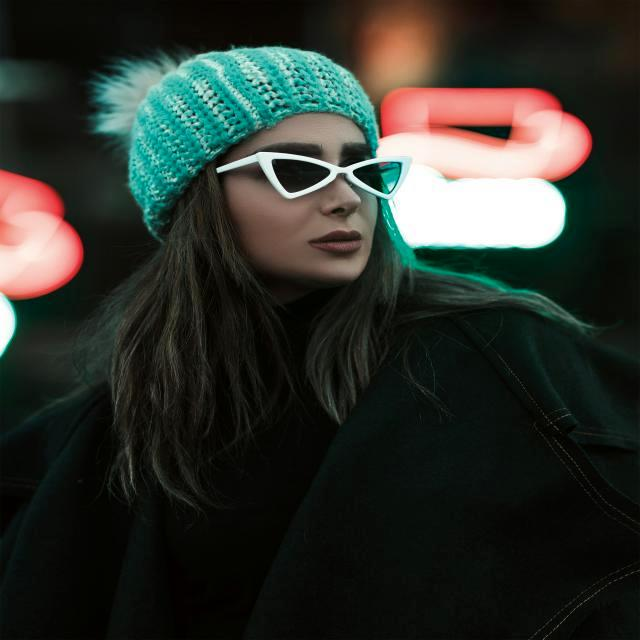no_hard_hat: (129, 47, 377, 234)
person: (5, 46, 640, 640)
